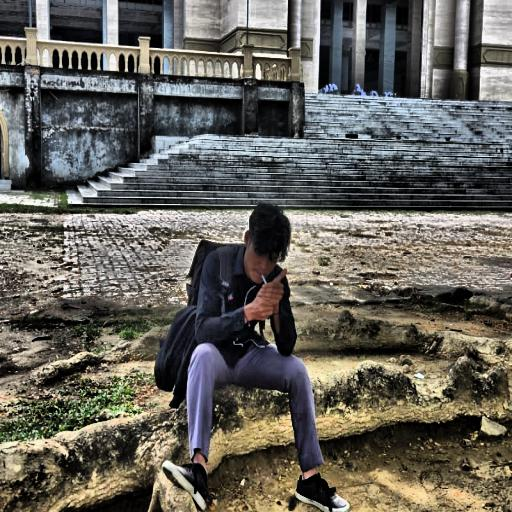Merokok: (261, 276, 268, 283)
Rokok: (244, 231, 285, 327)
